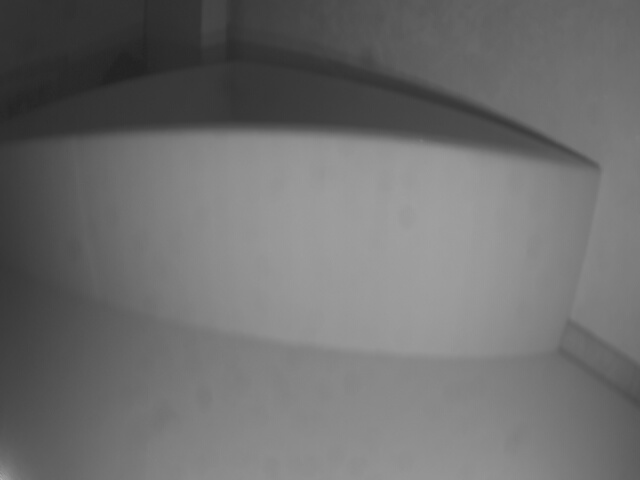Point: (6, 138, 587, 354)
